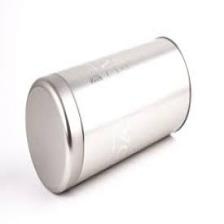metal: (19, 32, 192, 201)
